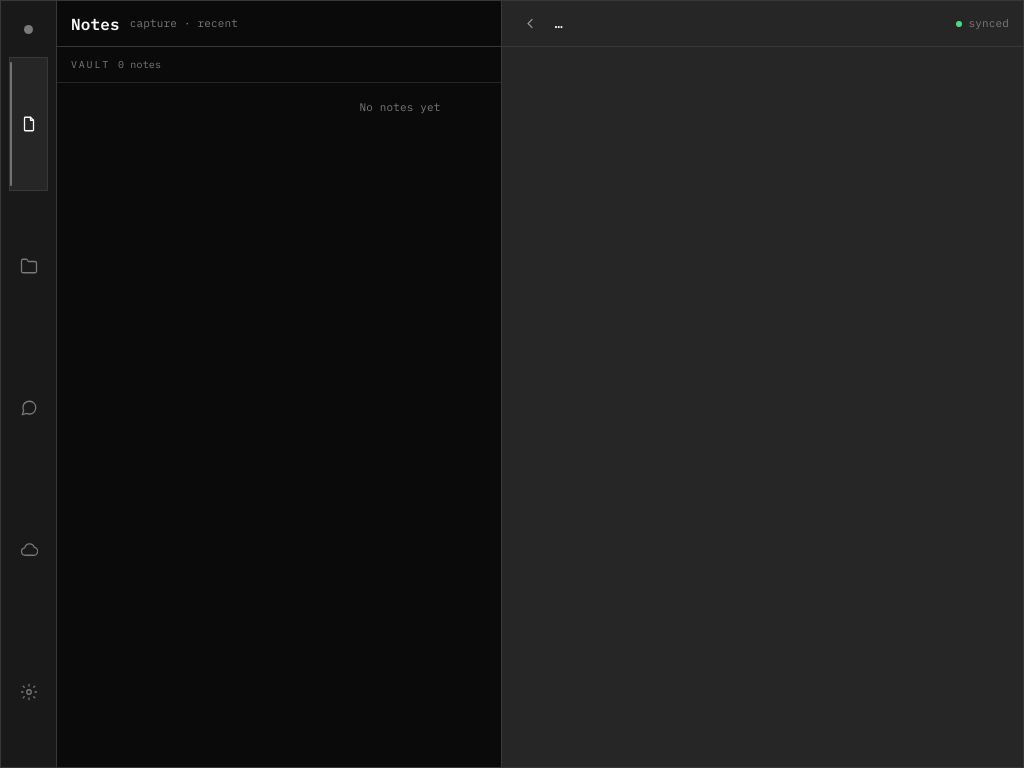
Test case: FullWindow — rail stays live behind the note editor (Task 8) › stays open while re-selecting the same tab it opened on (not a 'switch')
Click the button named "notes" at (28, 124), box [9,57,48,191]
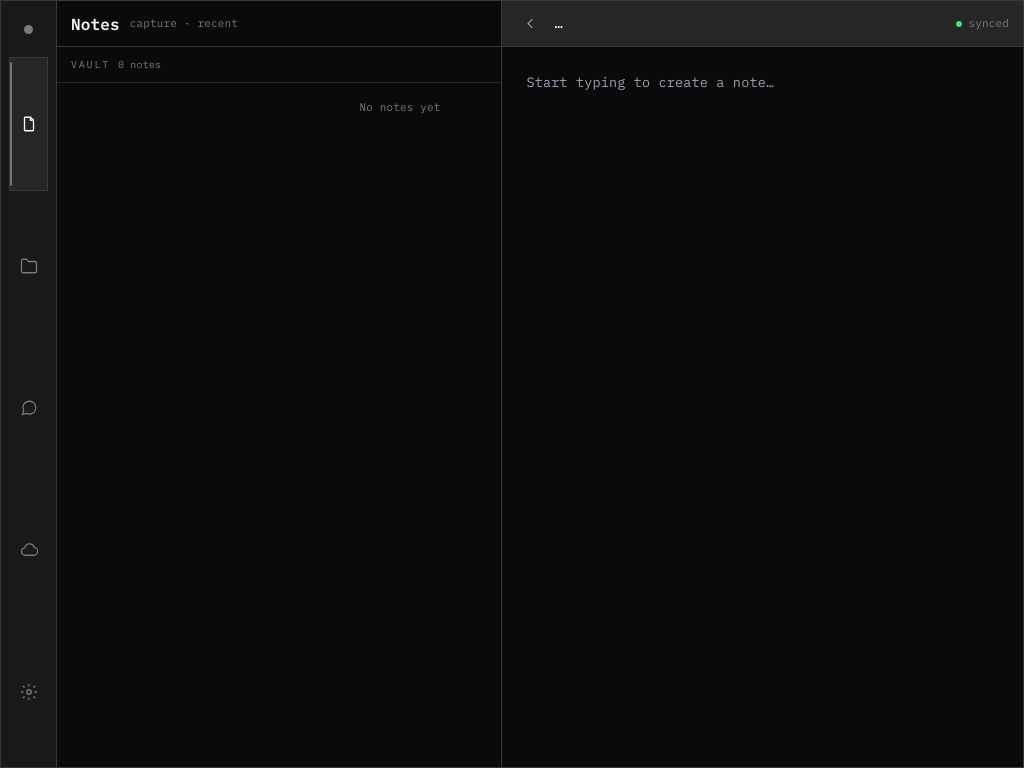
Check: the dialog named "note editor" is shown, box [502,47,1023,767]
